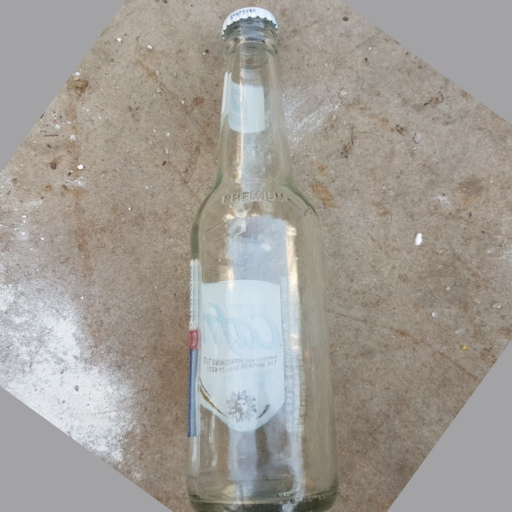Glass_1: (184, 6, 343, 512)
